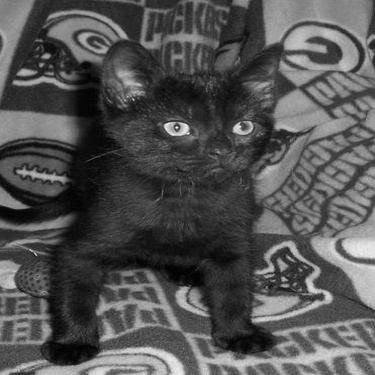cat: (41, 39, 283, 365)
